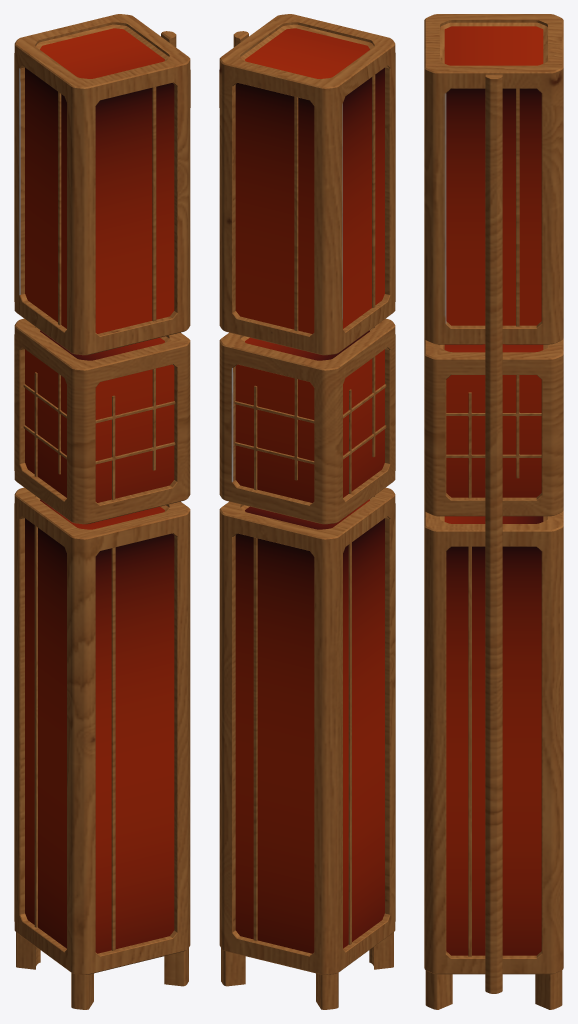
The model's file is japan_lamp.obj.
3 renders of one model, left to right at view 1: azimuth 30°, elevation 25°; view 2: azimuth 150°, elevation 25°; view 3: azimuth 270°, elevation 25°, orthographic.
Parts seen in each view (by area): view 1: emisson, main_body, lines, legs; view 2: emisson, main_body, lines, legs; view 3: emisson, main_body, base, lines, legs.
Part boxes in pixels (left/top/right/bottom): emisson: left=25, top=28, right=174, bottom=953; main_body: left=14, top=14, right=190, bottom=974; lines: left=23, top=87, right=175, bottom=950; legs: left=16, top=932, right=188, bottom=1009; emisson: left=235, top=28, right=384, bottom=953; main_body: left=219, top=14, right=395, bottom=974; lines: left=234, top=75, right=386, bottom=944; legs: left=221, top=932, right=393, bottom=1009; emisson: left=444, top=26, right=543, bottom=955; main_body: left=424, top=14, right=563, bottom=974; base: left=485, top=74, right=502, bottom=993; lines: left=446, top=88, right=541, bottom=956; legs: left=425, top=970, right=562, bottom=1009.
Size of the model in its own units: 1.55 by 10.4 by 1.4.
2 materials, 2 textured.
